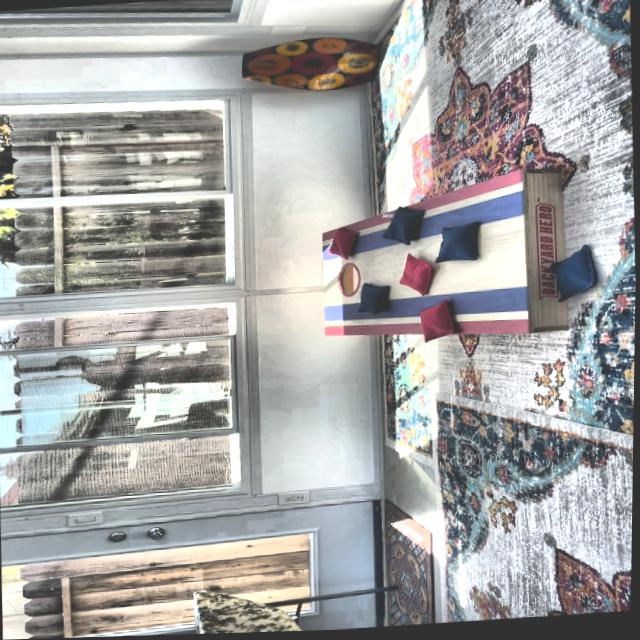blue-bean-bag: (549, 248, 595, 305), (432, 224, 482, 265), (380, 208, 423, 248), (355, 284, 390, 319)
board: (319, 209, 530, 340)
hole: (335, 264, 361, 299)
red-bean-bag: (418, 303, 456, 345), (398, 255, 434, 299), (325, 227, 358, 262)
